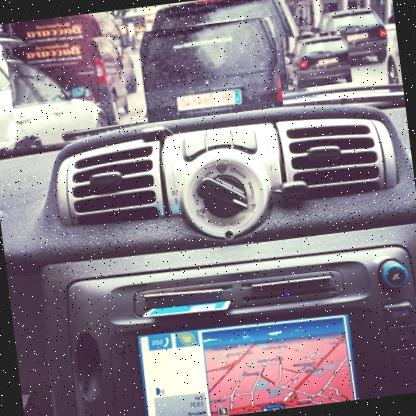Car: (0, 0, 415, 415), (136, 15, 283, 124), (5, 34, 130, 138), (340, 8, 402, 103), (281, 30, 351, 90)
